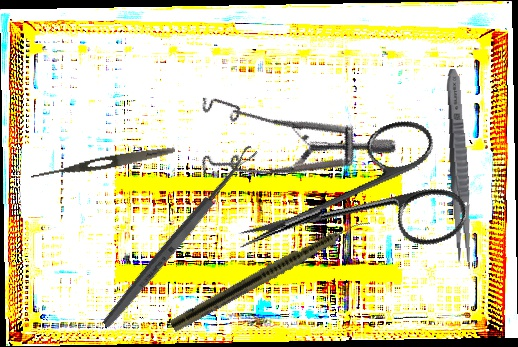Dressing Forceps: (442, 68, 477, 270), (30, 143, 176, 184)
Handpiece: (168, 212, 373, 335)
Iris Scissors: (218, 109, 474, 305)
Speculum: (172, 33, 400, 228)
Surgical Spoon: (99, 144, 260, 330)
